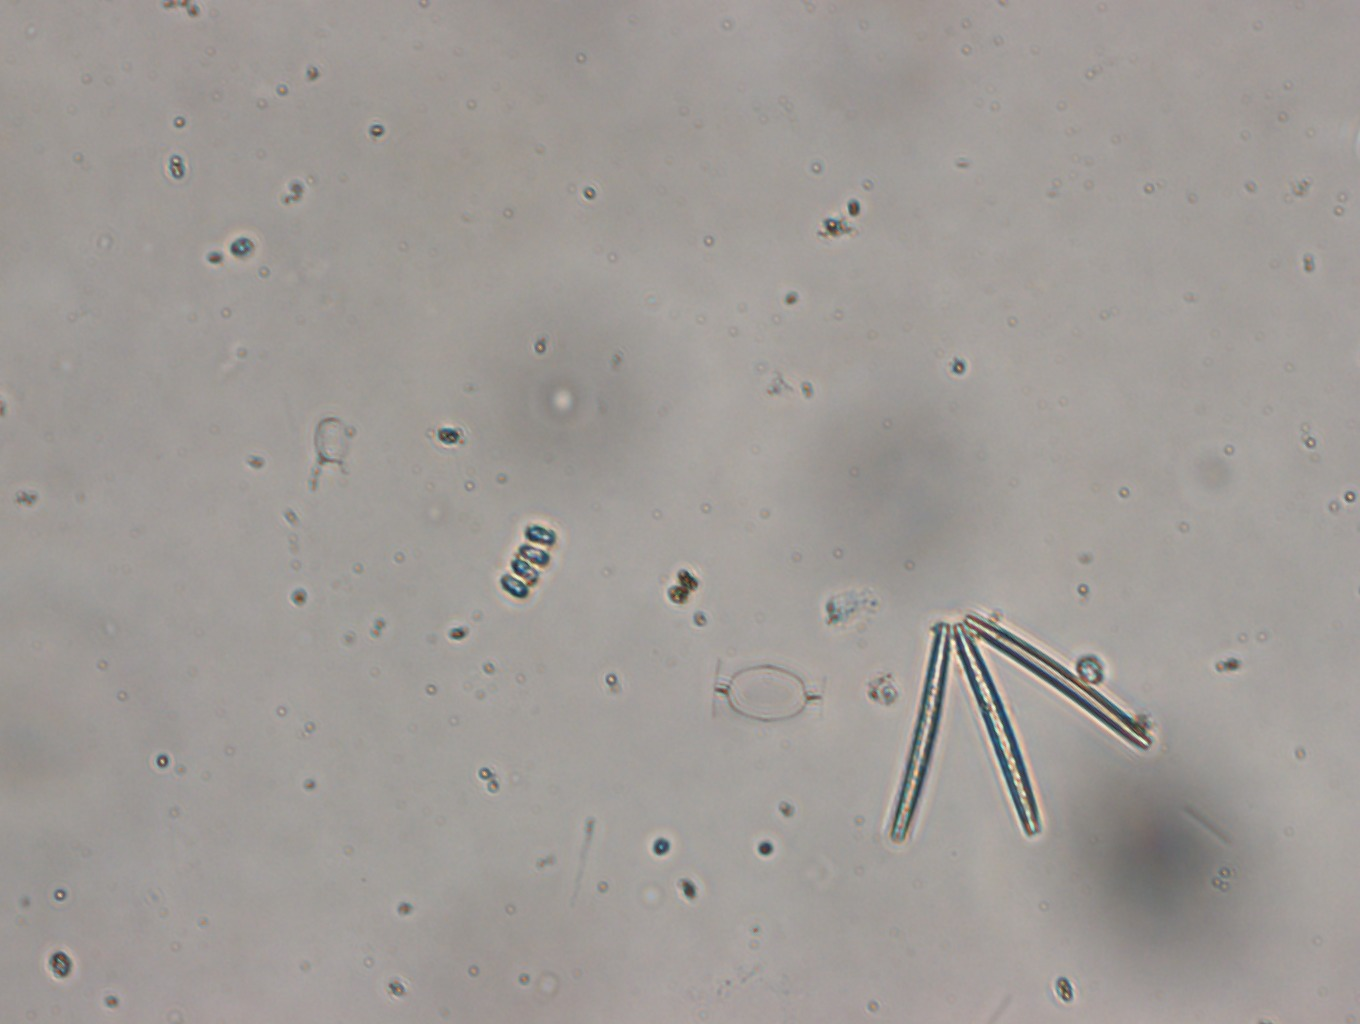thalassionema nitzschioides: (889, 608, 1155, 845)
